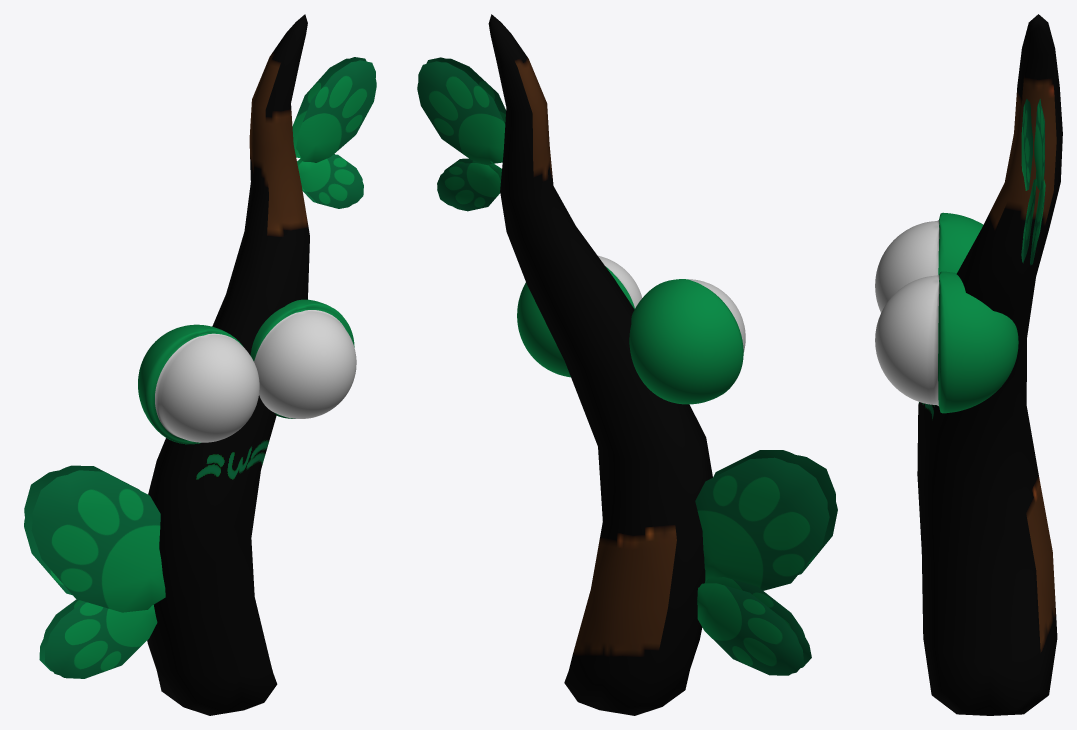
The picture shows the model from 3 angles, left to right: view 1: azimuth 30°, elevation 25°; view 2: azimuth 150°, elevation 25°; view 3: azimuth 270°, elevation 25°; orthographic projection. The views are drawn at different scales.
Visible parts, largest first — view 1: Planty; view 2: Planty; view 3: Planty.
Part boxes in pixels (box(x1,y1,x2,y2)): Planty: box(24, 14, 376, 715); Planty: box(417, 14, 837, 715); Planty: box(875, 14, 1062, 715).
Bounding box in the file's own units: 2.92 × 4.58 × 1.05.
